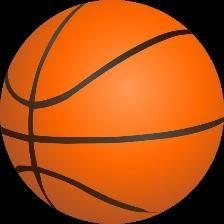Sports-Ball: (3, 3, 224, 224)
